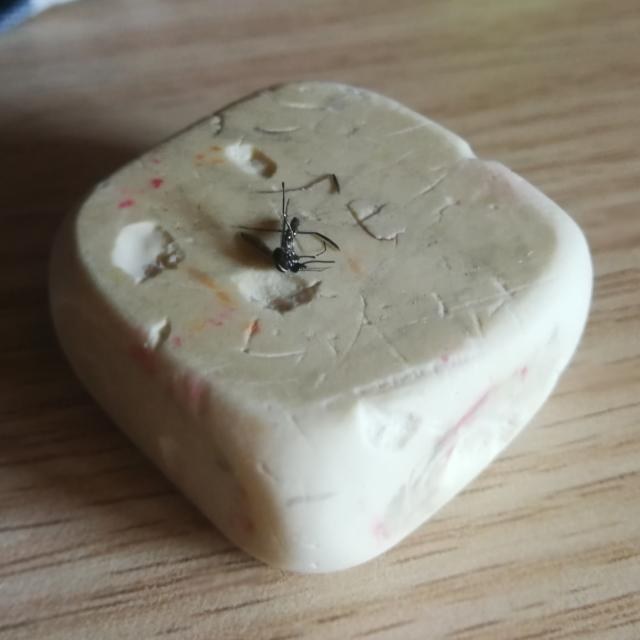albopictus: (226, 162, 405, 280)
